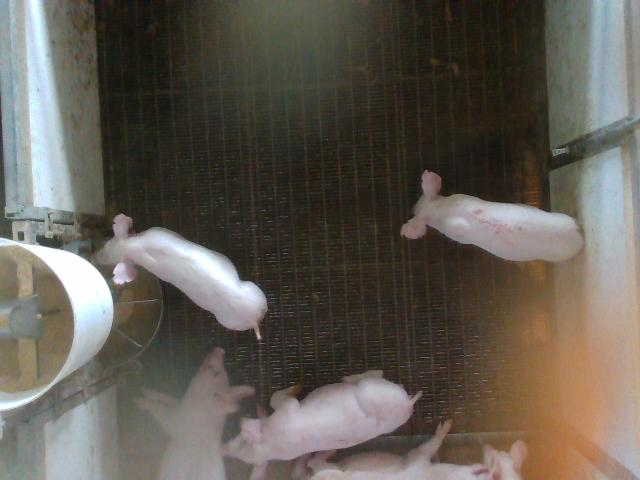pig-5: (402, 171, 584, 261)
